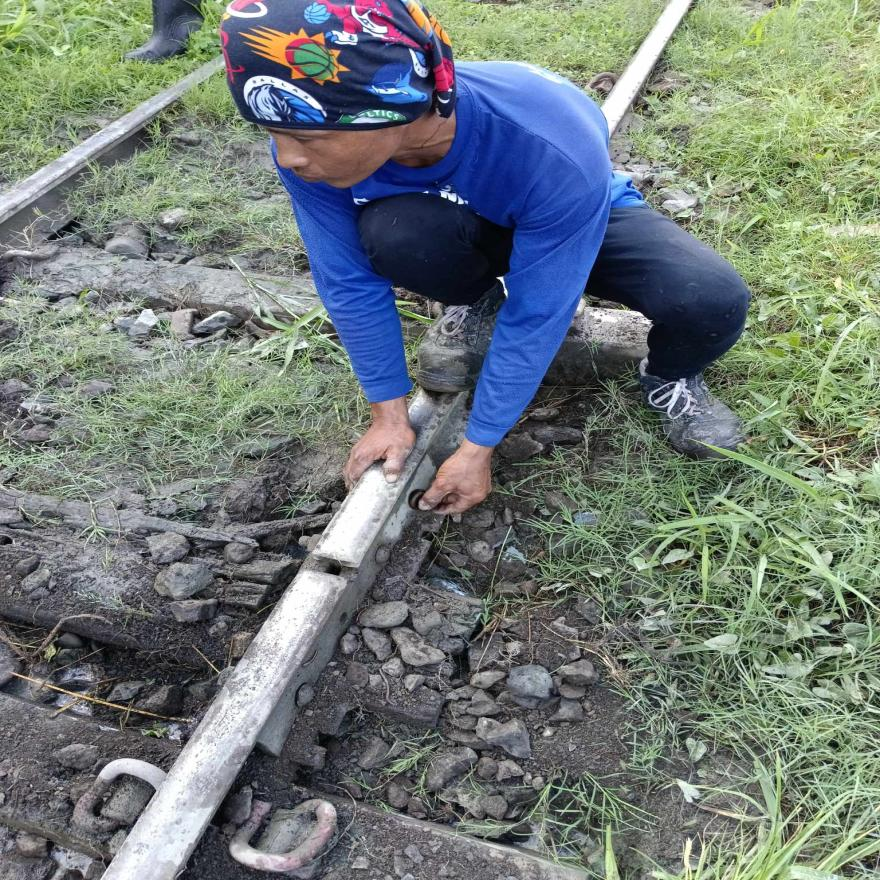railway-gap: (273, 528, 389, 611)
